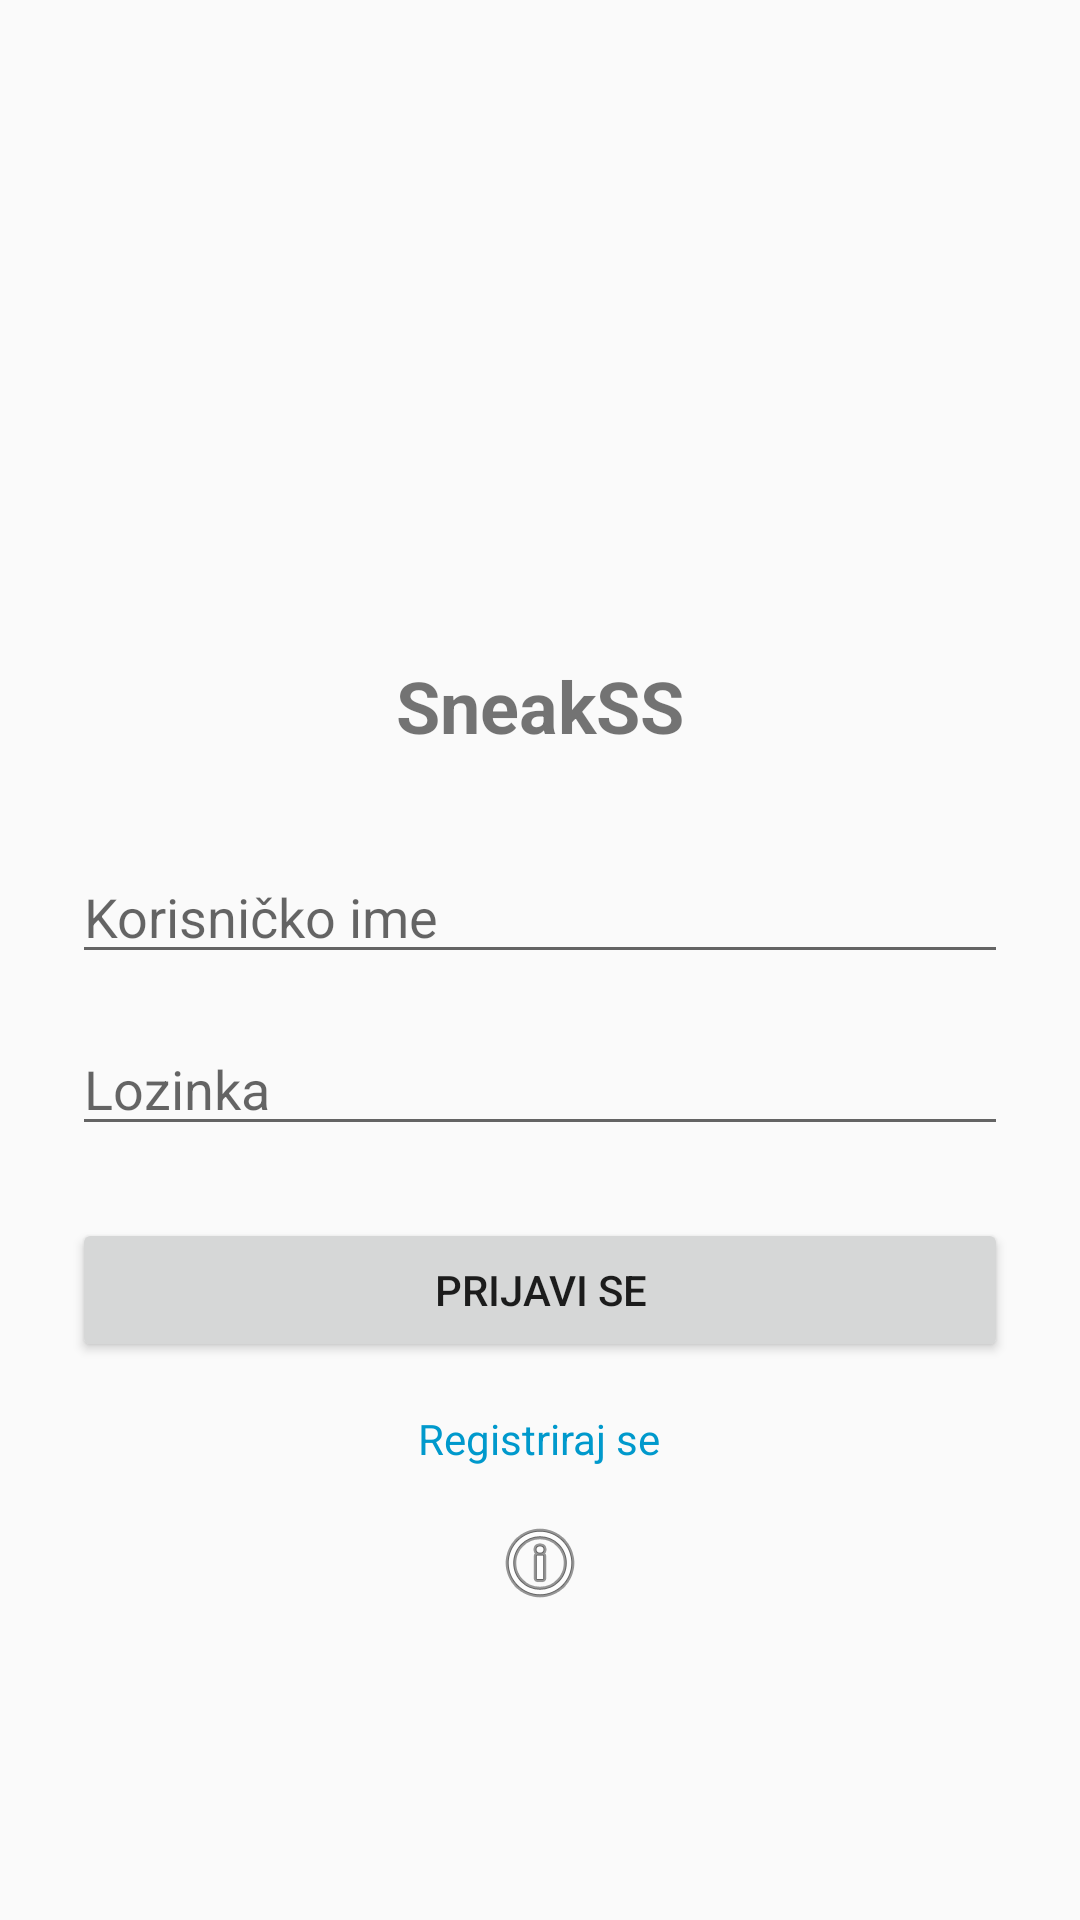

Point at icon controls on the screen. Image size 1080px×1920px, points as point (x, y).
Informacije o aplikaciji: point (540, 1563)
